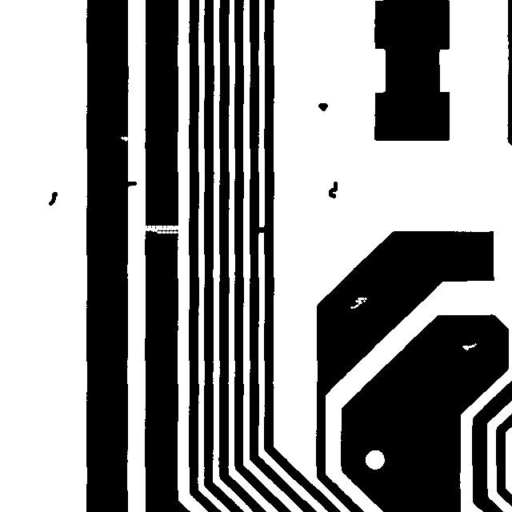copper: (321, 174, 345, 206), (41, 184, 65, 213), (310, 95, 335, 118)
mousebite: (113, 129, 137, 149)
open: (136, 218, 189, 241)
pin-hole: (342, 290, 374, 316), (454, 335, 484, 358)
short: (248, 219, 275, 240)
spur: (118, 174, 144, 194)
